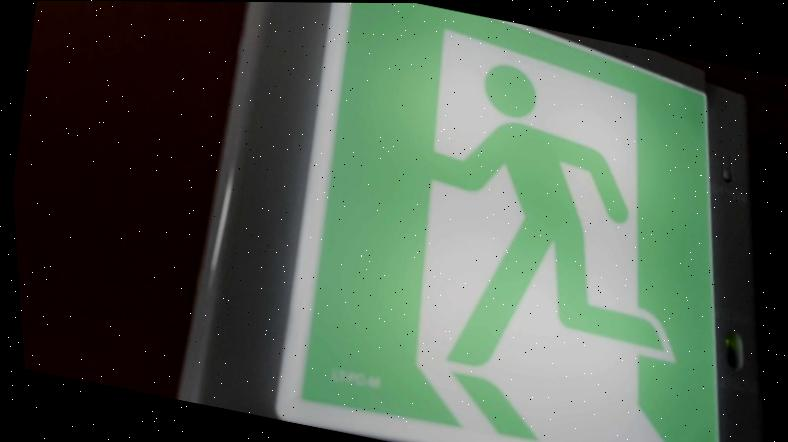emergency_exit: (173, 2, 736, 440)
